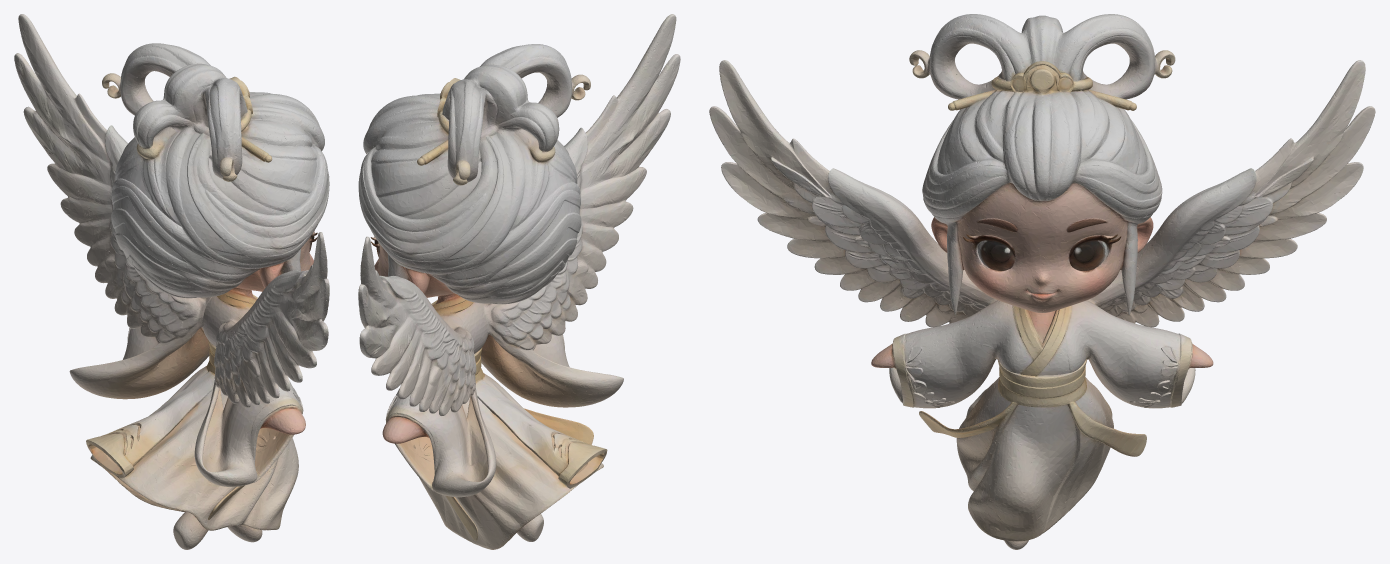
3 renders of one model, left to right at view 1: azimuth 30°, elevation 25°; view 2: azimuth 150°, elevation 25°; view 3: azimuth 270°, elevation 25°, orthographic. The views are drawn at different scales.
Parts seen in each view (by area): view 1: tripo_node_a0334ee7-d3f3-4d82-92b3-7dcefcd7ab9e; view 2: tripo_node_a0334ee7-d3f3-4d82-92b3-7dcefcd7ab9e; view 3: tripo_node_a0334ee7-d3f3-4d82-92b3-7dcefcd7ab9e.
Boxes of the visible parts, left/top/right/bottom form: tripo_node_a0334ee7-d3f3-4d82-92b3-7dcefcd7ab9e: left=14, top=14, right=329, bottom=549; tripo_node_a0334ee7-d3f3-4d82-92b3-7dcefcd7ab9e: left=358, top=14, right=680, bottom=549; tripo_node_a0334ee7-d3f3-4d82-92b3-7dcefcd7ab9e: left=709, top=14, right=1375, bottom=549.
Size of the model in its own units: 0.4039 by 0.8418 by 0.9991.
1 material, 1 textured.
